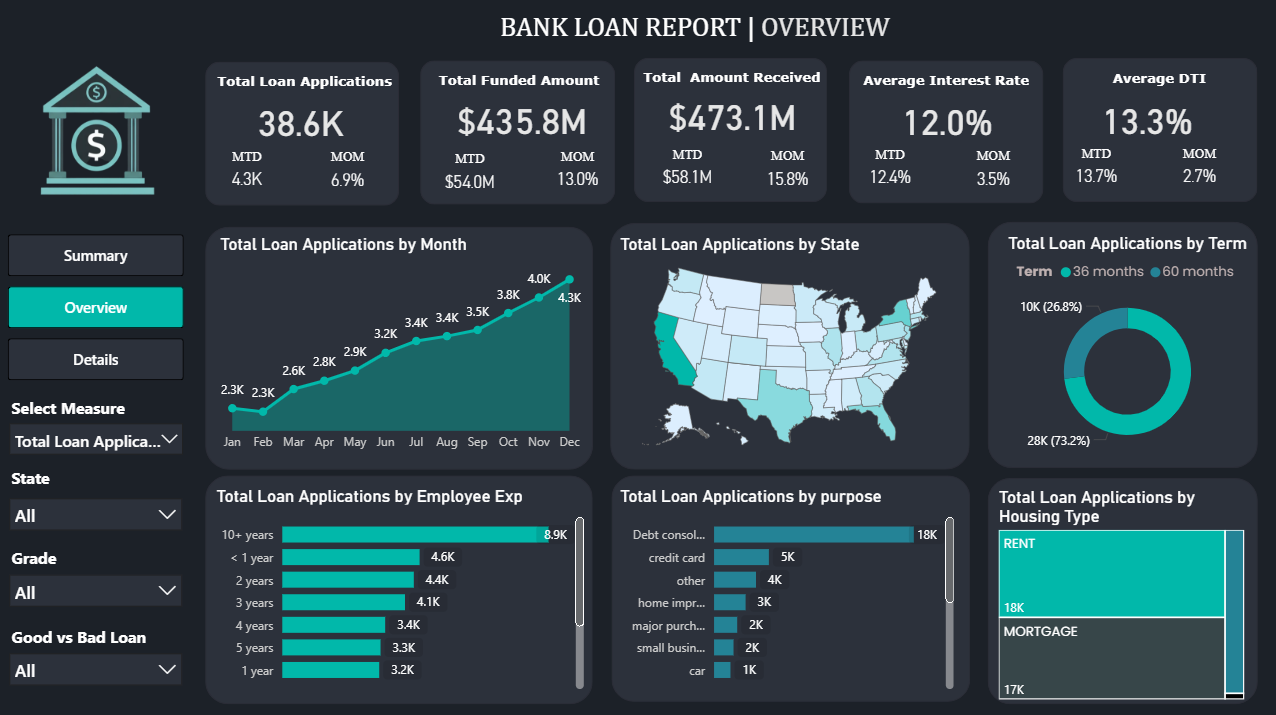

Layout of this report page (visuals, bound fields, positions):
{"tool":"powerbi","page":{"name":"Overview","canvas":[1280,720],"ordinal":1},"visuals":[{"type":"textbox","box":[121.7,10,1158.3,58.3],"z":0},{"type":"shape","box":[635.4,60.6,193.1,144],"z":0,"group":"g3"},{"type":"shape","box":[1063.1,60.6,194.8,144],"z":0,"group":"g5"},{"type":"shape","box":[421.3,63.1,194.9,144],"z":0,"group":"g2"},{"type":"shape","box":[849.8,63.1,194.3,142.9],"z":0,"group":"g4"},{"type":"shape","box":[206,64.3,193.8,143.7],"z":0,"group":"g1"},{"type":"group","id":"g1","title":"Group 1","box":[206,64.3,195.9,143.7],"z":1000},{"type":"card","fields":{"Values":["financial_loan.Total Amount Received"]},"box":[653.6,73.1,159.3,89.5],"z":2000,"group":"g3"},{"type":"card","fields":{"Values":["financial_loan.Avg DTI"]},"box":[1087.7,83.2,121.5,77.3],"z":2000,"group":"g5"},{"type":"card","fields":{"Values":["financial_loan.Avg Interest Rate"]},"box":[886.9,83.9,121.5,76.1],"z":2000,"group":"g4"},{"type":"card","fields":{"Values":["financial_loan.Total Loan Applications"]},"box":[240.4,85.4,121.4,76.2],"z":2000,"group":"g1"},{"type":"card","fields":{"Values":["financial_loan.Total Funded Amount"]},"box":[439.5,86.6,166.3,69.8],"z":2000,"group":"g2"},{"type":"shape","box":[611.6,224.5,359.5,246.6],"z":2000},{"type":"group","id":"g2","title":"Group 1","box":[421.3,63.1,195.7,144],"z":3000},{"type":"textbox","box":[637,65.2,193.3,37.2],"z":3000,"group":"g3"},{"type":"textbox","box":[1062.2,66.8,196,37.5],"z":3000,"group":"g5"},{"type":"textbox","box":[421.9,67.7,195.1,37.2],"z":3000,"group":"g2"},{"type":"textbox","box":[849.4,67.7,194.5,36.9],"z":3000,"group":"g4"},{"type":"textbox","box":[207.9,68.9,194,37.1],"z":3000,"group":"g1"},{"type":"textbox","box":[6.9,393.3,222.9,41.4],"z":3000,"group":"g8"},{"type":"textbox","box":[7.3,463.8,222.9,41.4],"z":3000,"group":"g10"},{"type":"textbox","box":[7.1,543.5,222.9,41.4],"z":3000,"group":"g11"},{"type":"textbox","box":[7.1,622.5,222.9,41.4],"z":3000,"group":"g12"},{"type":"group","id":"g3","title":"Group 1","box":[635.4,60.6,194.9,144],"z":4000},{"type":"card","title":"MTD","fields":{"Values":["financial_loan.MTD Avg DTI"]},"box":[1063.7,147.5,67.5,40],"z":4000,"group":"g5"},{"type":"card","title":"MTD","fields":{"Values":["financial_loan.MTD Avg Interest Rate"]},"box":[857.4,149.1,67.5,40],"z":4000,"group":"g4"},{"type":"card","title":"MTD","fields":{"Values":["financial_loan.MTD Amount Received"]},"box":[652.1,149.5,74.8,40.5],"z":4000,"group":"g3"},{"type":"card","title":"MTD","fields":{"Values":["financial_loan.MTD Loan Applications"]},"box":[213.4,152.2,68.7,40.5],"z":4000,"group":"g1"},{"type":"card","title":"MTD","fields":{"Values":["financial_loan.MTD Funded Amount"]},"box":[427.1,152.6,87.1,39.3],"z":4000,"group":"g2"},{"type":"group","id":"g4","title":"Group 1","box":[849.4,63.1,194.7,142.9],"z":5000},{"type":"card","title":"MOM","fields":{"Values":["financial_loan.MOM Avg DTI"]},"box":[1166.3,147.5,68.8,40],"z":5000,"group":"g5"},{"type":"card","title":"MOM","fields":{"Values":["financial_loan.MOM Avg Interest Rate"]},"box":[960,150.3,68.8,38.8],"z":5000,"group":"g4"},{"type":"card","title":"MOM","fields":{"Values":["financial_loan.MOM Amount Received"]},"box":[755,150.5,67.5,38.8],"z":5000,"group":"g3"},{"type":"card","title":"MOM","fields":{"Values":["financial_loan.MOM Funded Amount"]},"box":[542.6,151.3,72.4,44.2],"z":5000,"group":"g2"},{"type":"card","title":"MOM","fields":{"Values":["financial_loan.MOM Loan Applications"]},"box":[315.2,152.2,67.5,39.3],"z":5000,"group":"g1"},{"type":"group","id":"g5","title":"Group 1","box":[1062.2,60.6,196,144],"z":6000},{"type":"shape","box":[206.1,228.2,387.7,242.9],"z":7000},{"type":"group","id":"g6","title":"Group 2","box":[0,463.8,230,95],"z":8000},{"type":"group","id":"g7","title":"Group 3","box":[0,543.5,230,92.9],"z":9000},{"type":"group","id":"g8","title":"Group 1","box":[6.9,393.3,222.9,41.4],"z":10000},{"type":"group","id":"g9","title":"Group 4","box":[0,622.5,230,92.5],"z":11000},{"type":"areaChart","fields":{"Y":["financial_loan.Total Loan Applications"],"Category":["Date Table.Month"]},"box":[216,236.8,371.8,225.8],"z":12000},{"type":"slicer","fields":{"Values":["Select Measure.Select Measure"]},"box":[-0.2,414.7,194.3,74.3],"z":13000},{"type":"shapeMap","fields":{"Value":["financial_loan.Total Loan Applications"],"Category":["financial_loan.address_state"]},"box":[616,236.8,348.5,225.8],"z":14000},{"type":"shape","box":[988.8,223.8,270,246.2],"z":15000},{"type":"donutChart","fields":{"Y":["financial_loan.Total Loan Applications"],"Category":["financial_loan.term"]},"box":[988.1,234.6,279.8,228.2],"z":16000},{"type":"shape","box":[206.2,477.5,387.5,228.8],"z":17000},{"type":"barChart","fields":{"Y":["financial_loan.Total Loan Applications"],"Category":["financial_loan.emp_length"]},"box":[212.5,487.5,377.5,208.8],"z":18000},{"type":"shape","box":[611.9,477.5,358.8,226.2],"z":19000},{"type":"slicer","fields":{"Values":["financial_loan.address_state"]},"box":[0,489.8,192.9,70],"z":19000,"group":"g6"},{"type":"group","id":"g10","title":"Group 1","box":[7.3,463.8,222.9,41.4],"z":20000,"group":"g6"},{"type":"barChart","fields":{"Y":["financial_loan.Total Loan Applications"],"Category":["financial_loan.purpose"]},"box":[616.2,487.5,343.8,208.8],"z":20000},{"type":"shape","box":[988.8,480,270,226.2],"z":21000},{"type":"slicer","fields":{"Values":["financial_loan.grade"]},"box":[0,566.4,192.9,70],"z":21000,"group":"g7"},{"type":"treemap","fields":{"Values":["financial_loan.Total Loan Applications"],"Group":["financial_loan.home_ownership"]},"box":[995,488.8,255,217.5],"z":22000},{"type":"image","box":[31.2,56.2,131.2,152.5],"z":23000},{"type":"slicer","fields":{"Values":["financial_loan.Good Loan vs Bad Loan"]},"box":[0,645.1,192.9,70],"z":23000,"group":"g9"},{"type":"pageNavigator","box":[8.8,236.2,176.2,147.5],"z":24000},{"type":"group","id":"g11","title":"Group 1","box":[7.1,543.5,222.9,41.4],"z":24000,"group":"g7"},{"type":"group","id":"g12","title":"Group 1","box":[7.1,622.5,222.9,41.4],"z":24001,"group":"g9"}]}

Visuals, with their boxes in screenshot pixels (x1, y1, x2, y2), scaled from the page's 1280x720 canvas onto the 1276x715 screenshot:
textbox: 121,10,1275,68
shape: 633,60,826,203
shape: 1060,60,1254,203
shape: 420,63,614,206
shape: 847,63,1041,205
shape: 205,64,399,207
"Group 1" group: 205,64,401,207
card - financial_loan.Total Amount Received: 652,73,810,161
card - financial_loan.Avg DTI: 1084,83,1205,159
card - financial_loan.Avg Interest Rate: 884,83,1005,159
card - financial_loan.Total Loan Applications: 240,85,361,160
card - financial_loan.Total Funded Amount: 438,86,604,155
shape: 610,223,968,468
"Group 1" group: 420,63,615,206
textbox: 635,65,828,102
textbox: 1059,66,1254,104
textbox: 421,67,615,104
textbox: 847,67,1041,104
textbox: 207,68,401,105
textbox: 7,391,229,432
textbox: 7,461,229,502
textbox: 7,540,229,581
textbox: 7,618,229,659
"Group 1" group: 633,60,828,203
"MTD" card: 1060,146,1128,186
"MTD" card: 855,148,922,188
"MTD" card: 650,148,725,189
"MTD" card: 213,151,281,191
"MTD" card: 426,152,513,191
"Group 1" group: 847,63,1041,205
"MOM" card: 1163,146,1231,186
"MOM" card: 957,149,1026,188
"MOM" card: 753,149,820,188
"MOM" card: 541,150,613,194
"MOM" card: 314,151,382,190
"Group 1" group: 1059,60,1254,203
shape: 205,227,592,468
"Group 2" group: 0,461,229,555
"Group 3" group: 0,540,229,632
"Group 1" group: 7,391,229,432
"Group 4" group: 0,618,229,710
areaChart - financial_loan.Total Loan Applications x Date Table.Month: 215,235,586,459
slicer - Select Measure.Select Measure: 0,412,193,486
shapeMap - financial_loan.Total Loan Applications x financial_loan.address_state: 614,235,961,459
shape: 986,222,1255,467
donutChart - financial_loan.Total Loan Applications x financial_loan.term: 985,233,1264,460
shape: 206,474,592,701
barChart - financial_loan.Total Loan Applications x financial_loan.emp_length: 212,484,588,691
shape: 610,474,968,699
slicer - financial_loan.address_state: 0,486,192,556
"Group 1" group: 7,461,229,502
barChart - financial_loan.Total Loan Applications x financial_loan.purpose: 614,484,957,691
shape: 986,477,1255,701
slicer - financial_loan.grade: 0,562,192,632
treemap - financial_loan.Total Loan Applications x financial_loan.home_ownership: 992,485,1246,701
image: 31,56,162,207
slicer - financial_loan.Good Loan vs Bad Loan: 0,641,192,710
pageNavigator: 9,235,184,381
"Group 1" group: 7,540,229,581
"Group 1" group: 7,618,229,659
